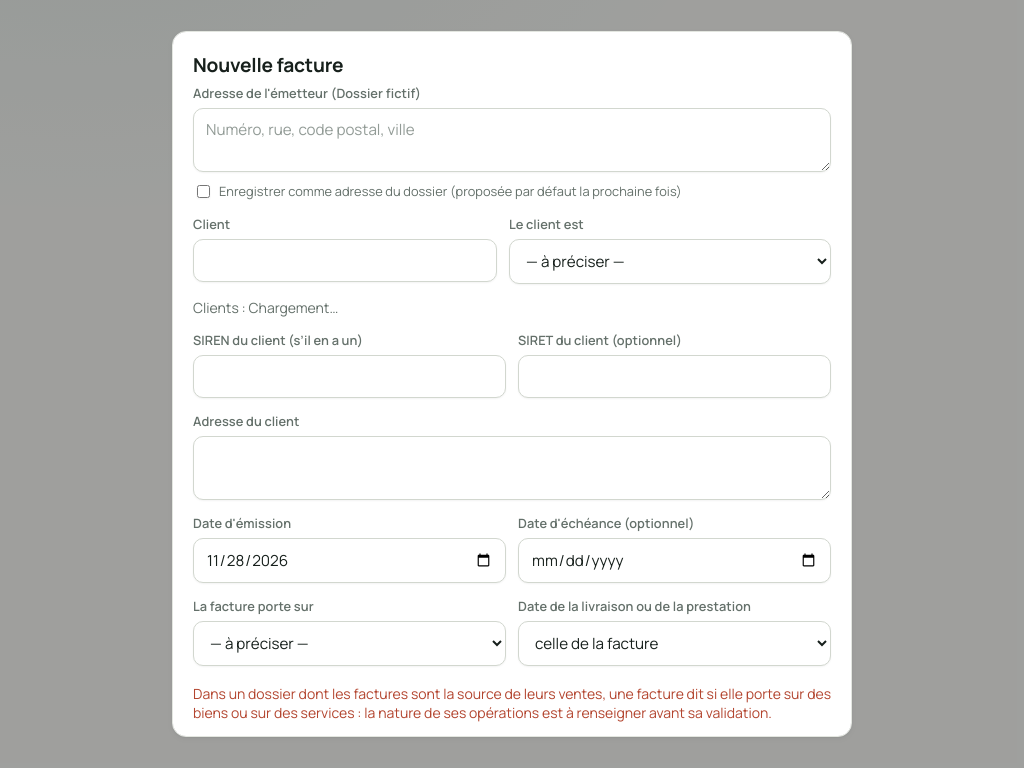
Test case: FactureFormModal — un dossier basculé, au cabinet › une facture mixte : « des biens et des services » reste offert, et se dit refusé à la validation
Type "Client fictif" into the field with id "tiers-nom" at (345, 260), box [193,239,497,282]
(page scrolled)
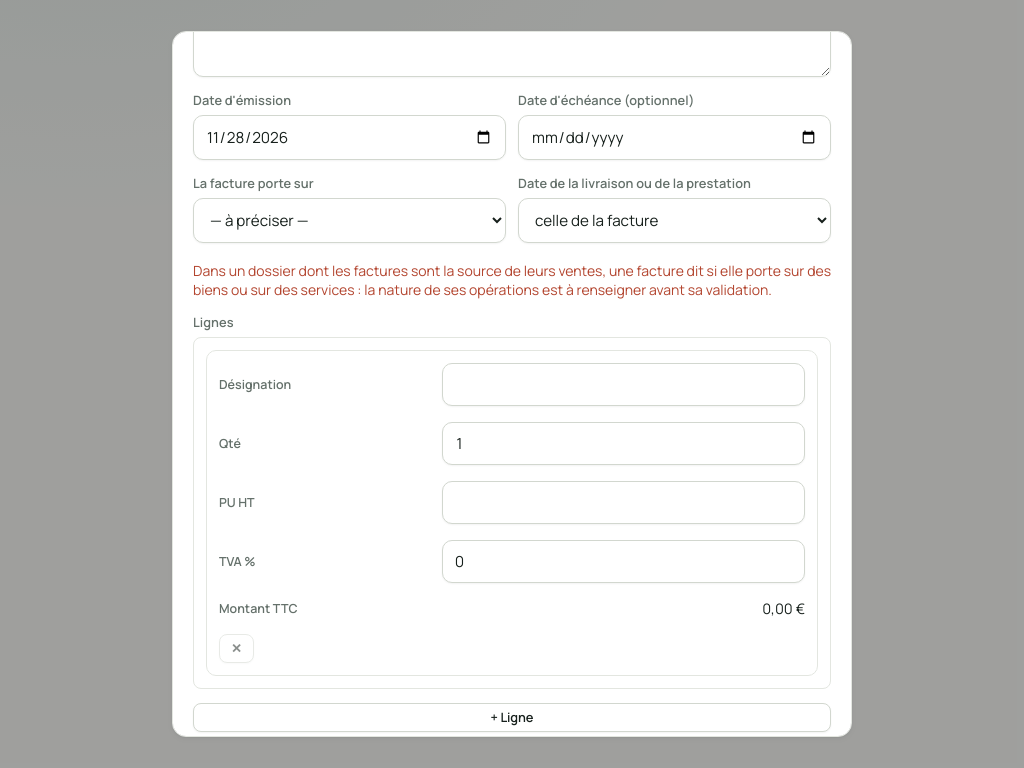
Type "Prestation" into the field at (623, 384), box [442,363,805,406]
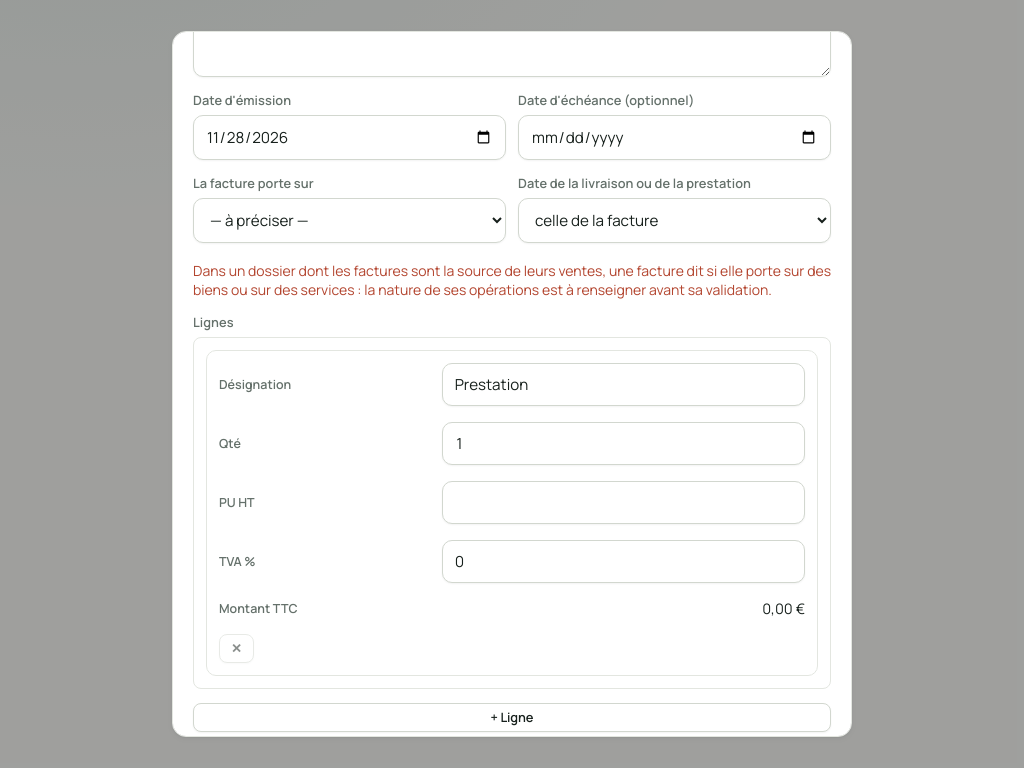
Select "des biens et des services" in the dropdown with id "nature-operation" at (350, 220), box [193,198,506,243]
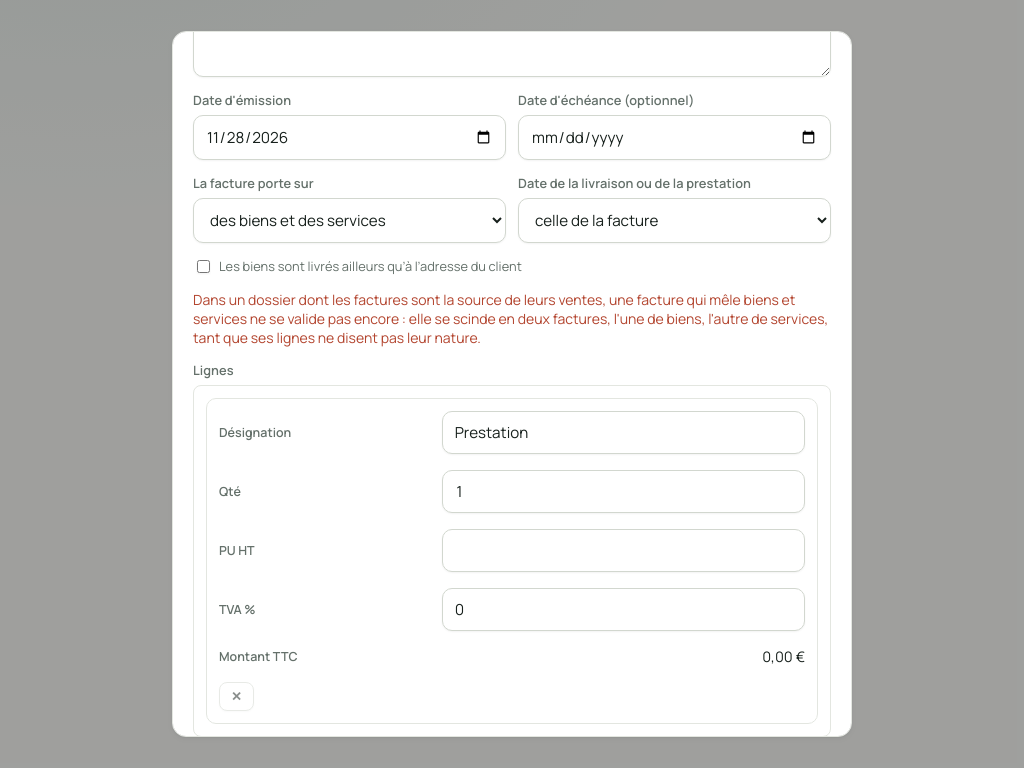
Type "2026-03-02" into the date field with id "date-emission" at (350, 137), box [193,115,506,160]
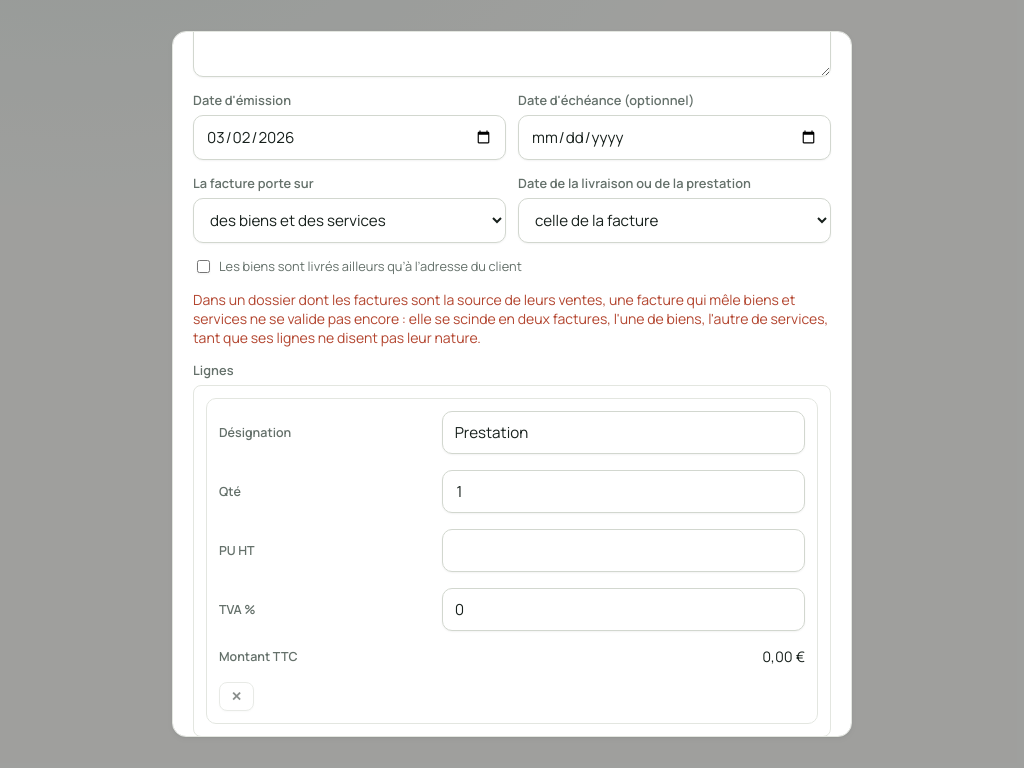
Check: the text "Dans un dossier dont les factures sont la source de leurs ventes, une facture qui mêle biens et services ne se valide pa" is shown, box [193,290,828,347]
Select "des livraisons de biens" in the dropdown with id "nature-operation" at (350, 220), box [193,198,506,243]
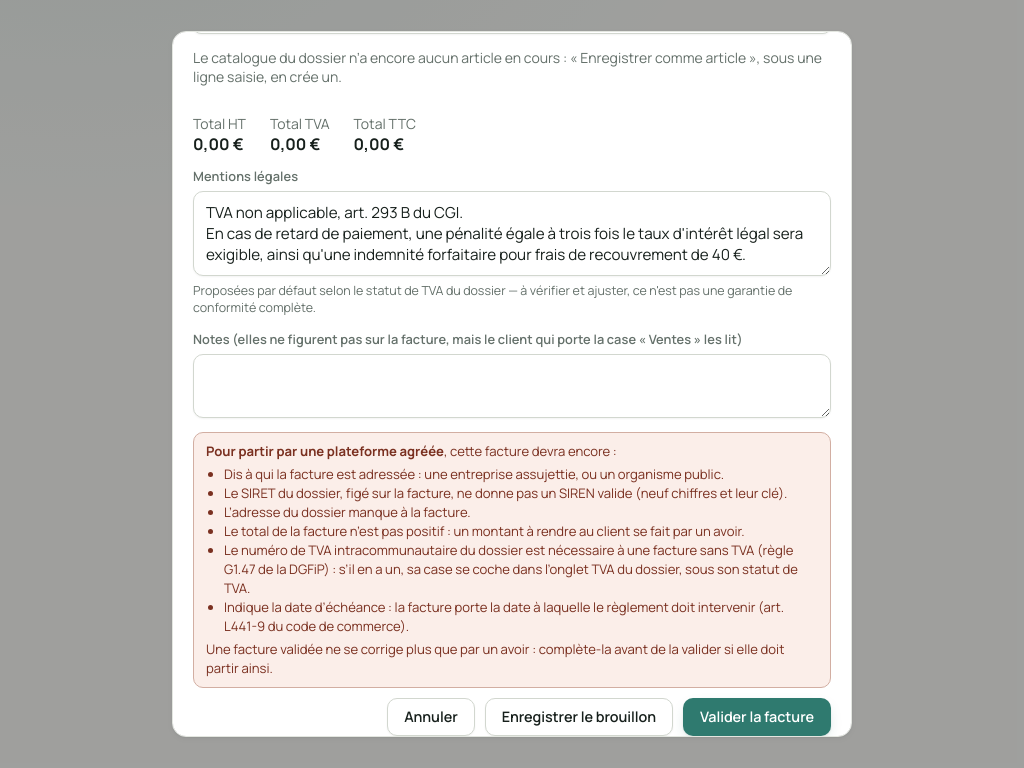
Check: the text "Dans un dossier dont les factures sont la source de leurs ventes, une facture qui mêle biens et services ne se valide pa" is gone
Check: the button "Valider la facture" is enabled, box [683,698,831,736]
